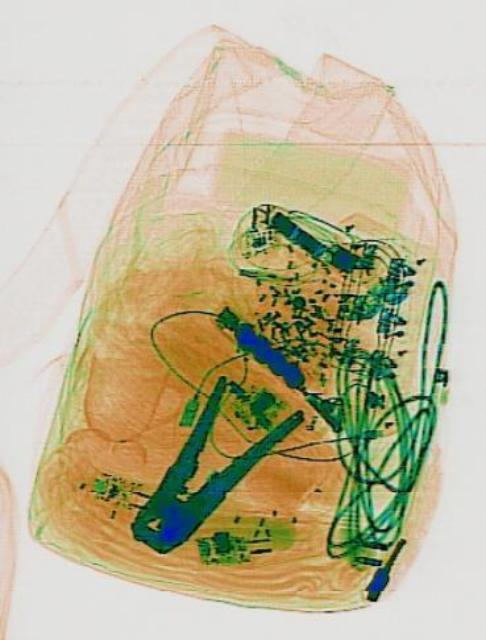Pliers: (112, 341, 306, 584)
